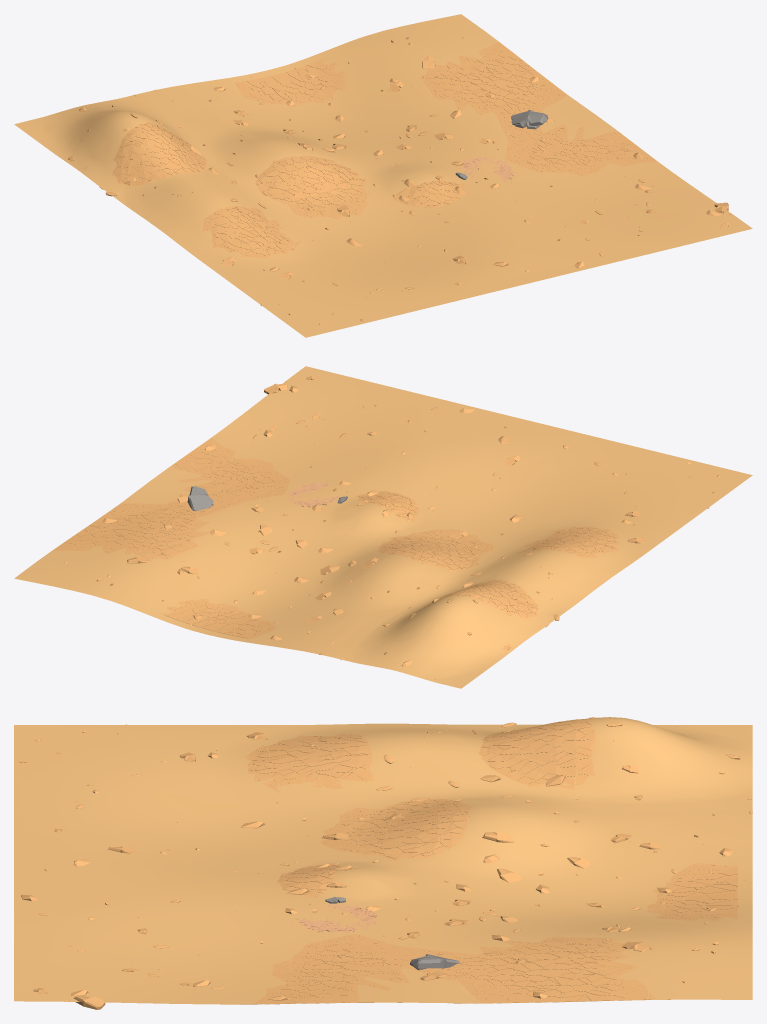
Rendered from Desert_1.fbx.
The picture shows the model from 3 angles, top to bottom: view 1: azimuth 30°, elevation 25°; view 2: azimuth 150°, elevation 25°; view 3: azimuth 270°, elevation 25°; orthographic projection. The views are drawn at different scales.
Visible parts, largest first — view 1: Desert.004, Desert.006, Desert; view 2: Desert.004, Desert.006, Desert; view 3: Desert.004, Desert.006, Desert.
Boxes of the visible parts, box(x1,y1,x2,y2) form: Desert.004: box(14, 14, 752, 337); Desert.006: box(99, 42, 657, 258); Desert: box(44, 37, 731, 325); Desert.004: box(14, 366, 752, 688); Desert.006: box(52, 438, 619, 638); Desert: box(64, 375, 720, 679); Desert.004: box(14, 717, 752, 1004); Desert.006: box(220, 719, 737, 1004); Desert: box(19, 717, 752, 1009).
Size of the model in its own units: 87.1 by 9.05 by 96.1.
